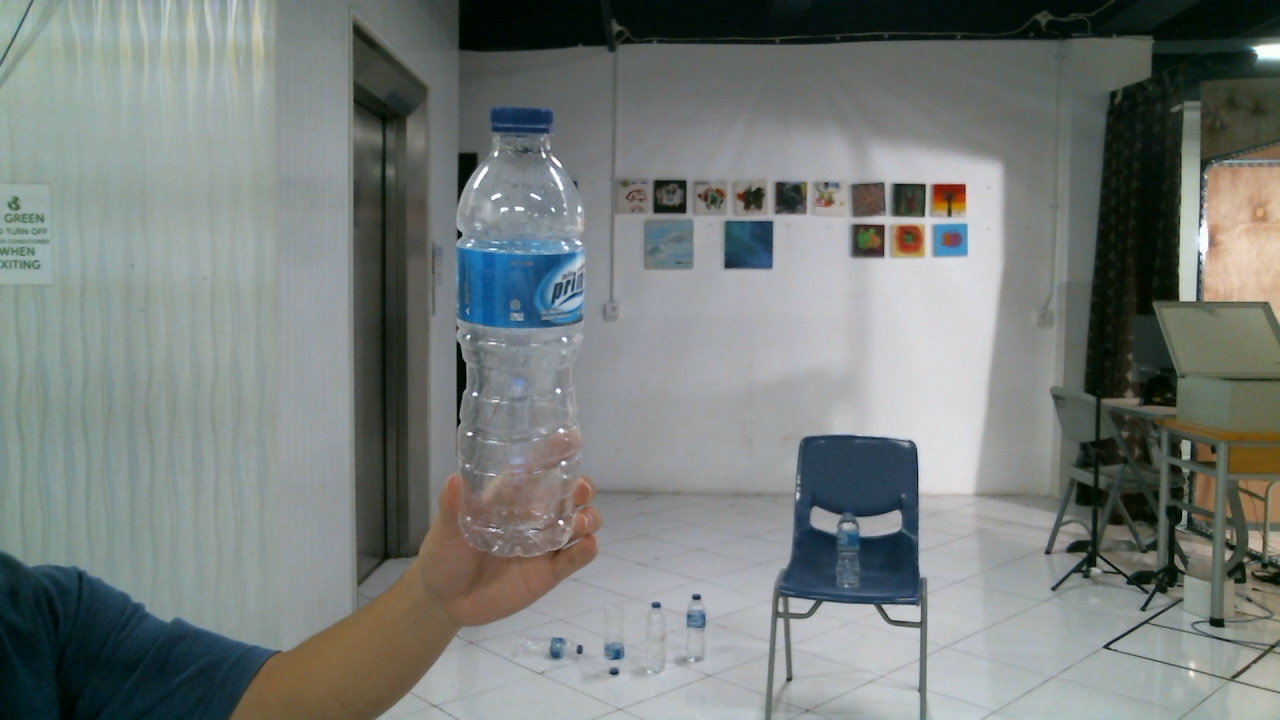Bottle: (457, 105, 579, 557)
